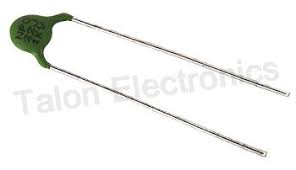ceramic capacitor: (2, 6, 115, 83)
